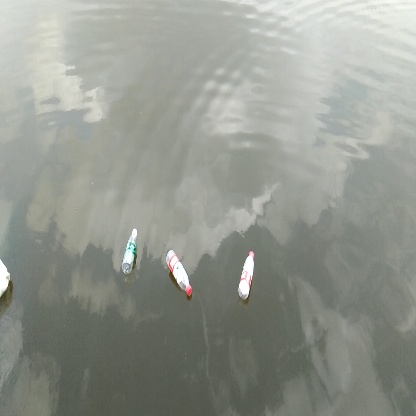bottle: (164, 246, 197, 299), (235, 246, 257, 302), (119, 226, 142, 276)
